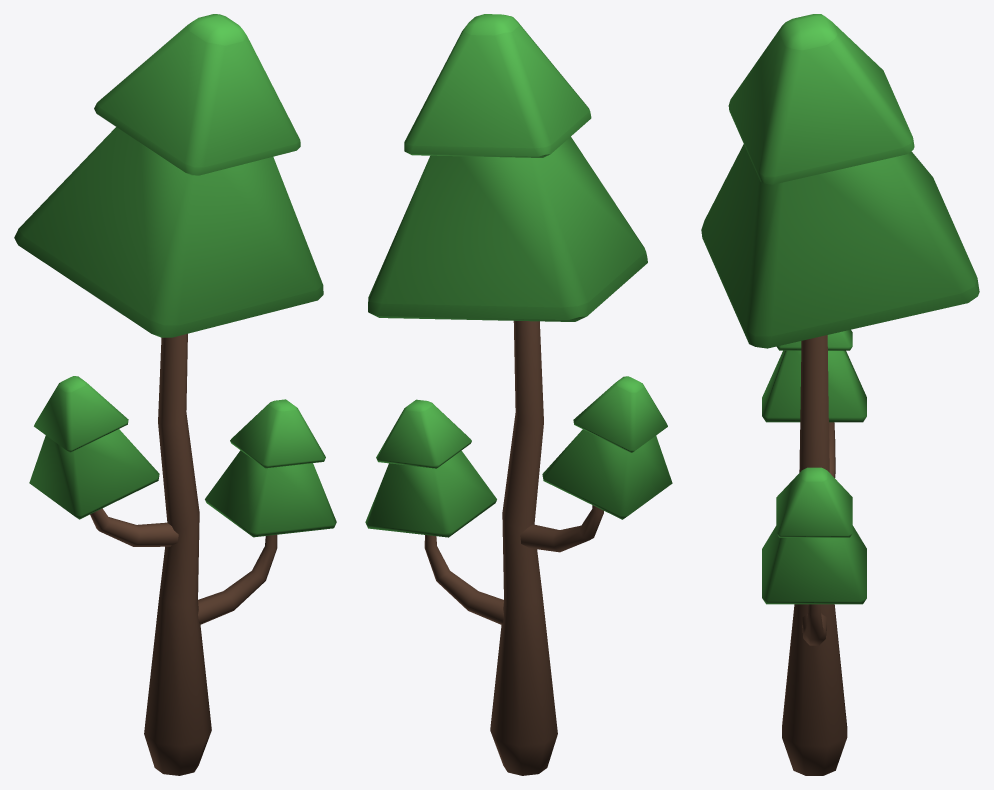
The model's file is tree_pine_2.glb.
The picture shows the model from 3 angles, left to right: view 1: azimuth 30°, elevation 25°; view 2: azimuth 150°, elevation 25°; view 3: azimuth 270°, elevation 25°; orthographic projection. The views are drawn at different scales.
Visible parts, largest first — view 1: tree_pine_2; view 2: tree_pine_2; view 3: tree_pine_2.
Part boxes in pixels (x1=…): tree_pine_2: x1=14, y1=14, x2=336, y2=775; tree_pine_2: x1=365, y1=14, x2=672, y2=775; tree_pine_2: x1=701, y1=14, x2=979, y2=775.
Size of the model in its own units: 4.08 by 11 by 3.6.
